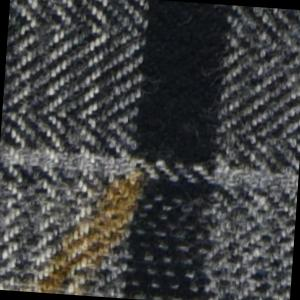Oil Stain: (19, 145, 158, 300)
